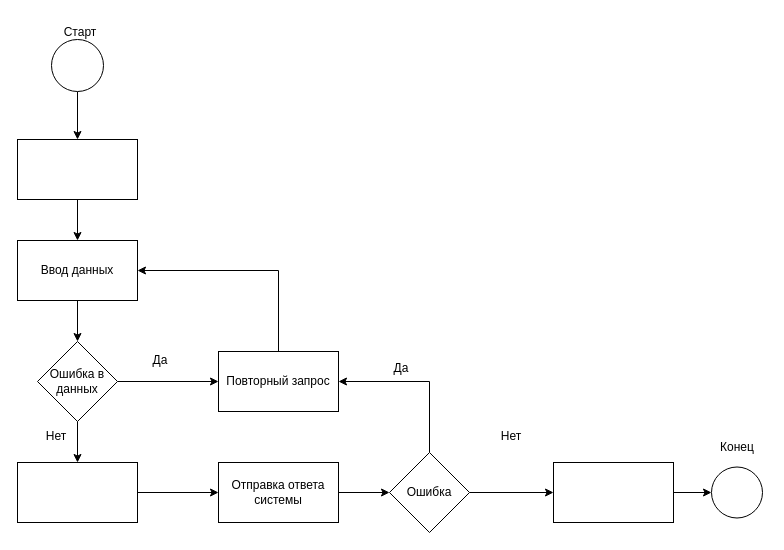
The diagram is 784 pixels wide and 550 high, and some of its shapes have lost their labels. The shapes that lost their labels are listed below. From the top down, each one's centre as x and y in pixels, then its label:
At (77,169): "Выбор калькулятора".
At (77,492): "Отправка данных на вычисление".
At (613,492): "Получение результата на экране".
